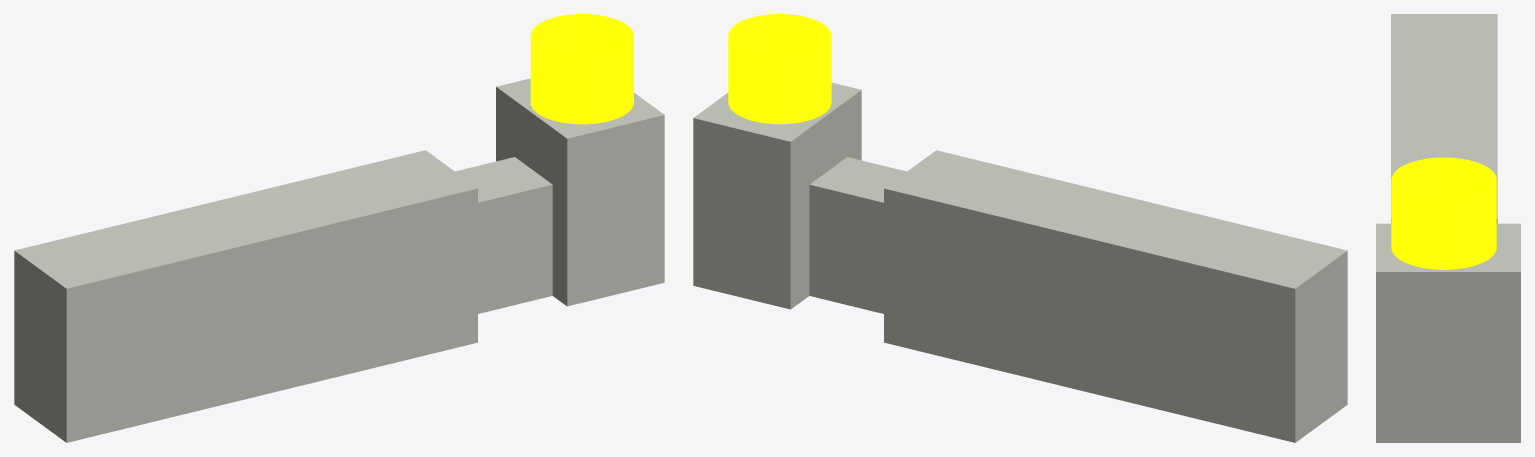
File: another_light.glb
3 renders of one model, left to right at view 1: azimuth 30°, elevation 25°; view 2: azimuth 150°, elevation 25°; view 3: azimuth 270°, elevation 25°, orthographic.
Visible parts, largest first — view 1: Cube.140, Cylinder.003; view 2: Cube.140, Cylinder.003; view 3: Cube.140, Cylinder.003.
Boxes of the visible parts, x1,y1,x2,y2 form: Cube.140: (14,78,664,442); Cylinder.003: (530,14,633,124); Cube.140: (693,82,1347,442); Cylinder.003: (728,14,831,124); Cube.140: (1376,14,1520,442); Cylinder.003: (1391,157,1496,269).
Size of the model in its own units: 0.4528 by 0.1874 by 0.0943.
